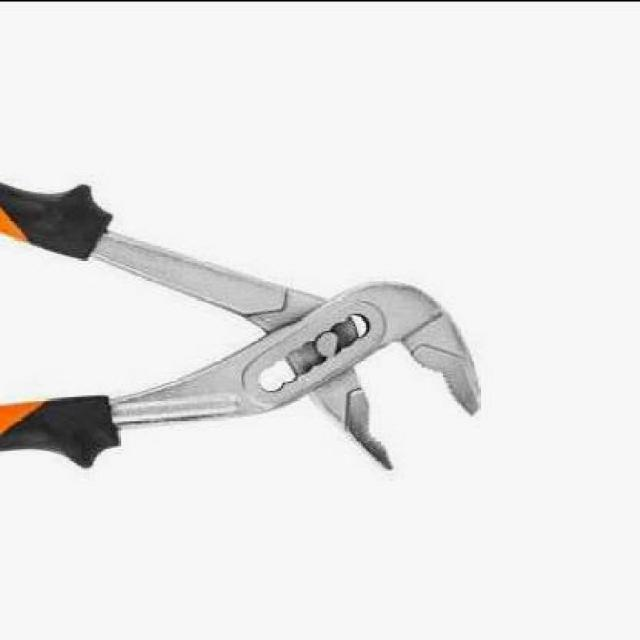pliers: (0, 170, 480, 487)
